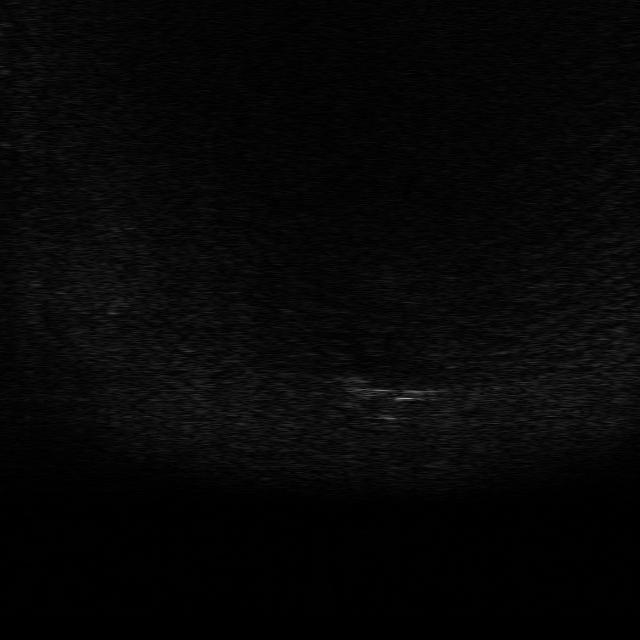plane: (342, 373, 448, 422)
